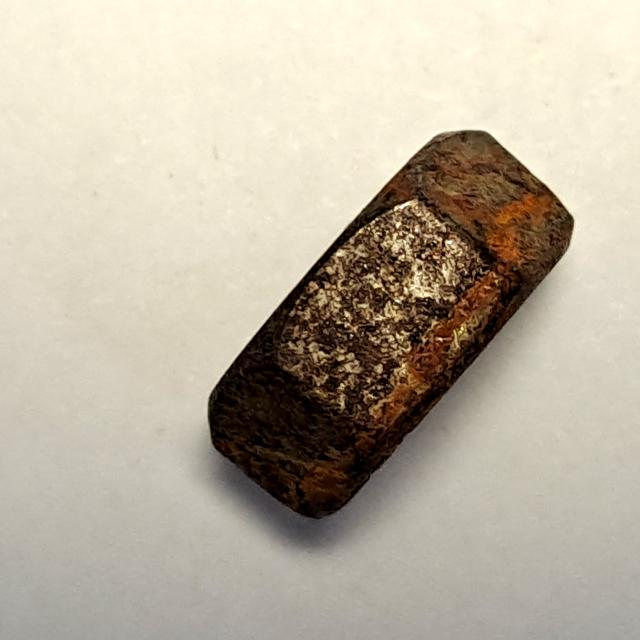Side_Rust: (196, 111, 589, 540)
